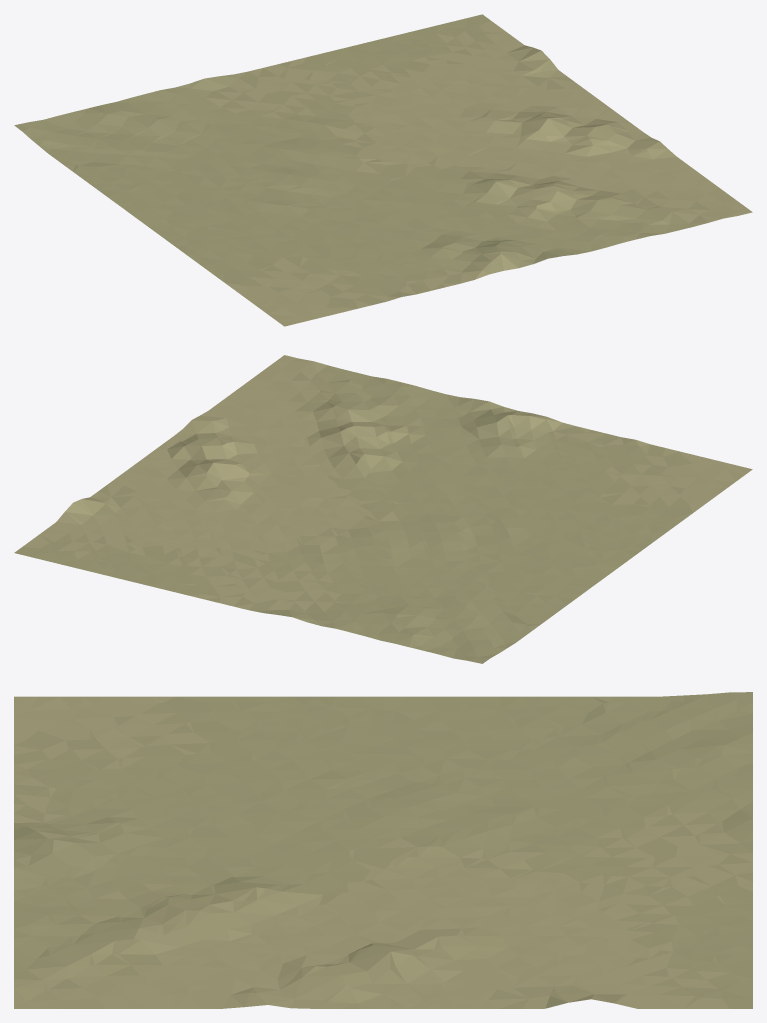
The model's file is Ground_0_-8.glb.
3 renders of one model, top to bottom at view 1: azimuth 30°, elevation 25°; view 2: azimuth 150°, elevation 25°; view 3: azimuth 270°, elevation 25°, orthographic. The views are drawn at different scales.
Parts seen in each view (by area): view 1: Ground_0_-8; view 2: Ground_0_-8; view 3: Ground_0_-8.
Part boxes in pixels (x1=…): Ground_0_-8: x1=14, y1=14, x2=752, y2=326; Ground_0_-8: x1=14, y1=355, x2=752, y2=663; Ground_0_-8: x1=14, y1=692, x2=752, y2=1008.
Size of the model in its own units: 768 by 14.74 by 768.
